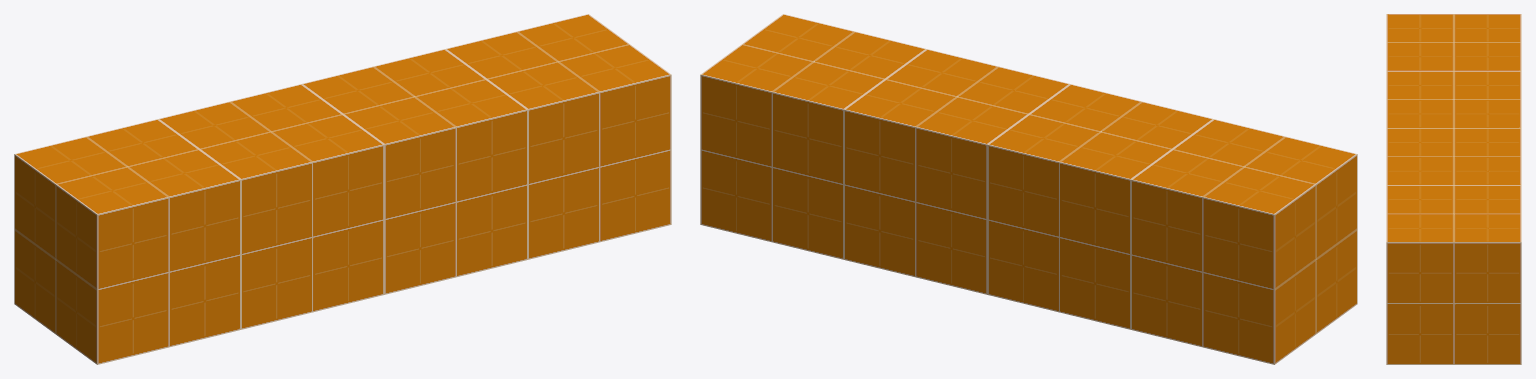
File: Block_4x1x1.obj
3 views of the same model, side by side, from view 1: azimuth 30°, elevation 25°; view 2: azimuth 150°, elevation 25°; view 3: azimuth 270°, elevation 25° (orthographic). The views are drawn at different scales.
Visible parts, largest first — view 1: Block_4x1x1_Cube.188; view 2: Block_4x1x1_Cube.188; view 3: Block_4x1x1_Cube.188.
Part boxes in pixels (<box>): Block_4x1x1_Cube.188: <box>14,14,671,364</box>; Block_4x1x1_Cube.188: <box>700,14,1357,364</box>; Block_4x1x1_Cube.188: <box>1386,14,1521,364</box>.
Size of the model in its own units: 4 by 1 by 1.
Materials: 1 (1 with a texture image).
